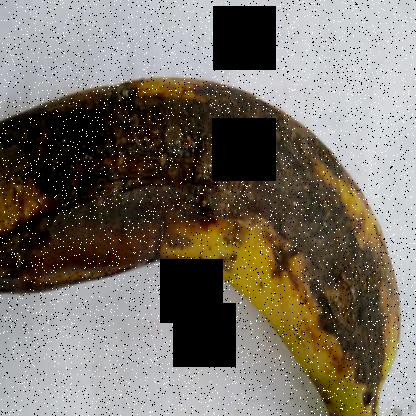rotten: (0, 70, 408, 415)
